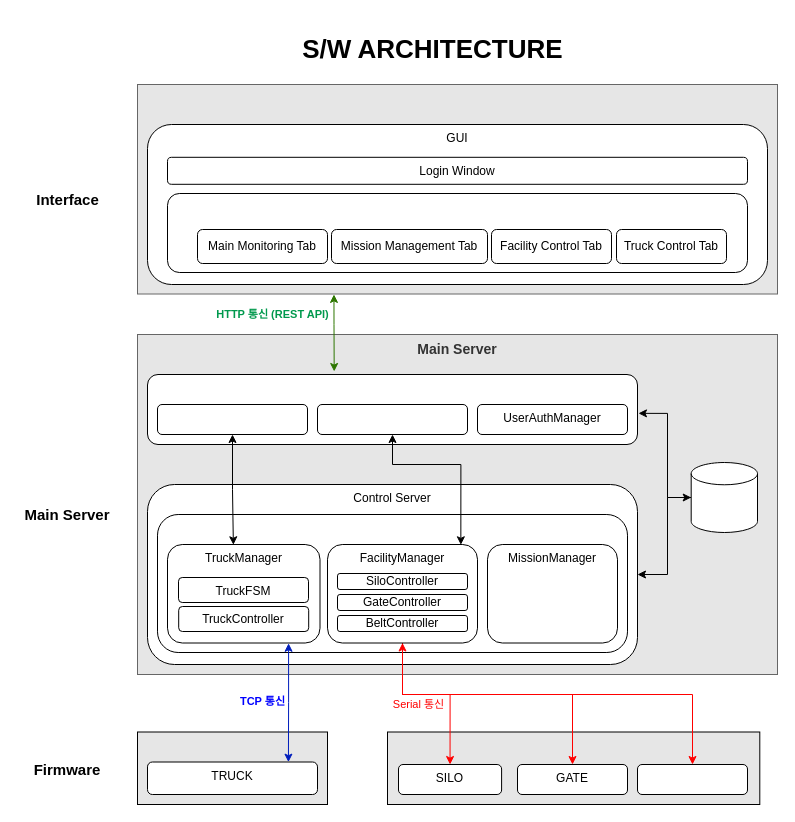
Image size: 795x822. Some labels were removed from this diagram. Here are the shapes that lost their labels. From the top down, the box of each, then its label:
(136, 84, 778, 294): User Interface
(166, 192, 748, 272): Main Window
(156, 404, 308, 434): TruckStatusManager
(146, 374, 638, 444): Status Server
(316, 404, 468, 434): FacilityStatusManager
(690, 462, 758, 532): Database
(156, 514, 628, 652): Main Controller
(136, 731, 328, 804): Truck (ESP32)
(386, 731, 760, 804): Facilities(Arduino UNO)
(636, 764, 748, 794): BELT
